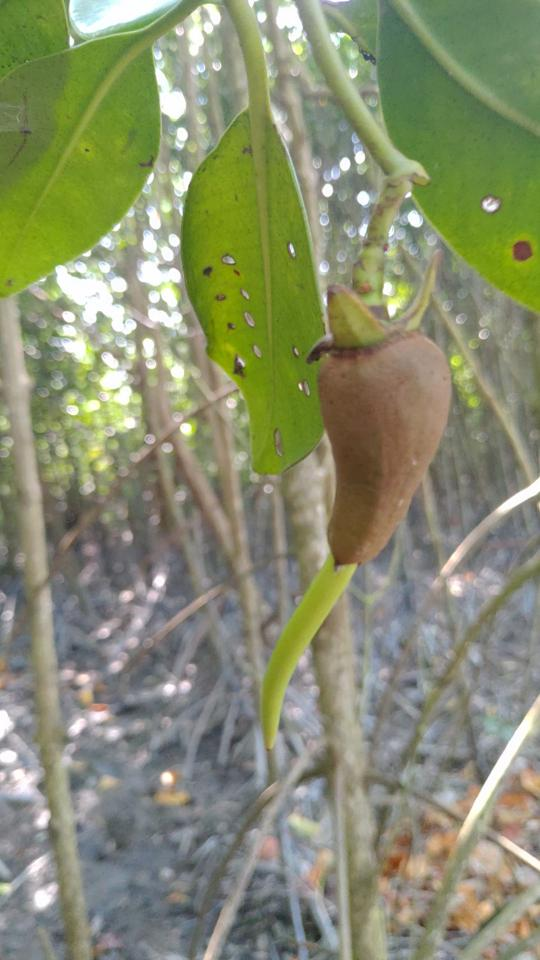mentah: (230, 253, 468, 762)
